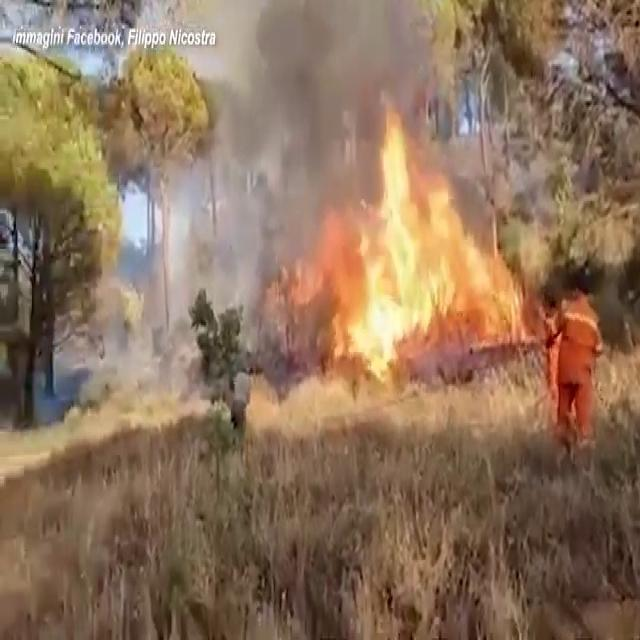Fire: (330, 98, 520, 386)
Smoke: (190, 0, 373, 322)
